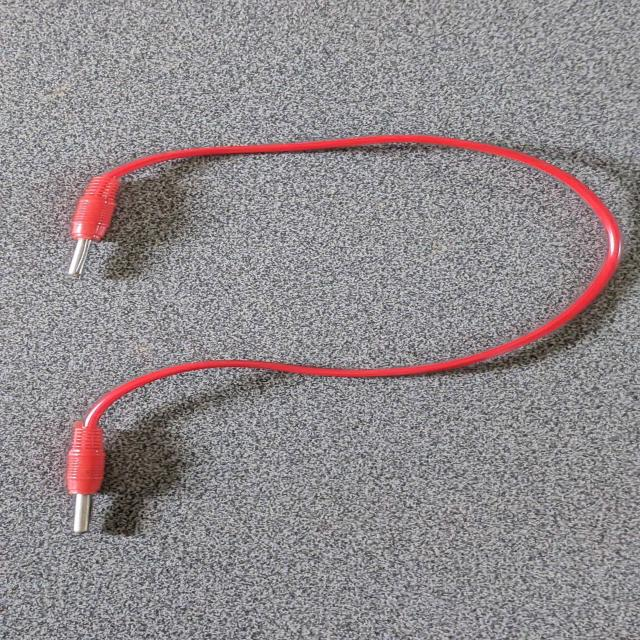BNC Cable: (18, 126, 637, 544)
